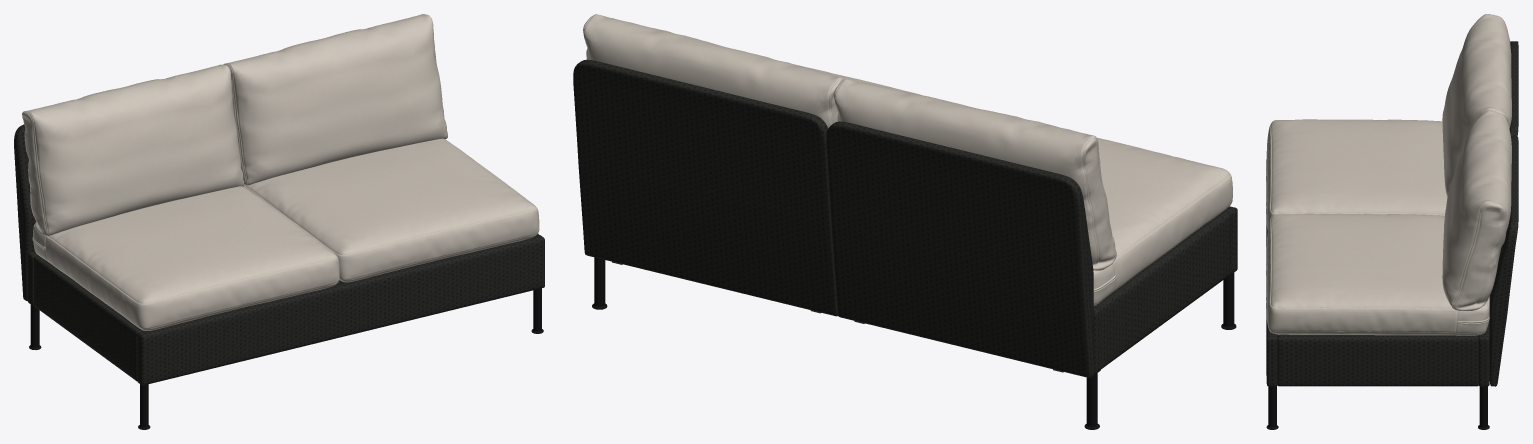
Rendered from vittskar_sofa_2_osobowa_69591076.glb.
3 renders of one model, left to right at view 1: azimuth 30°, elevation 25°; view 2: azimuth 150°, elevation 25°; view 3: azimuth 270°, elevation 25°, orthographic. The views are drawn at different scales.
Parts seen in each view (by area): view 1: vittskar_sofa_2_osobowa_69591076; view 2: vittskar_sofa_2_osobowa_69591076; view 3: vittskar_sofa_2_osobowa_69591076.
Part boxes in pixels (<box>): vittskar_sofa_2_osobowa_69591076: <box>14,14,544,429</box>; vittskar_sofa_2_osobowa_69591076: <box>573,14,1237,429</box>; vittskar_sofa_2_osobowa_69591076: <box>1266,14,1518,429</box>.
Size of the model in its own units: 1.6 by 0.8852 by 0.8918.
5 materials, 3 textured.
